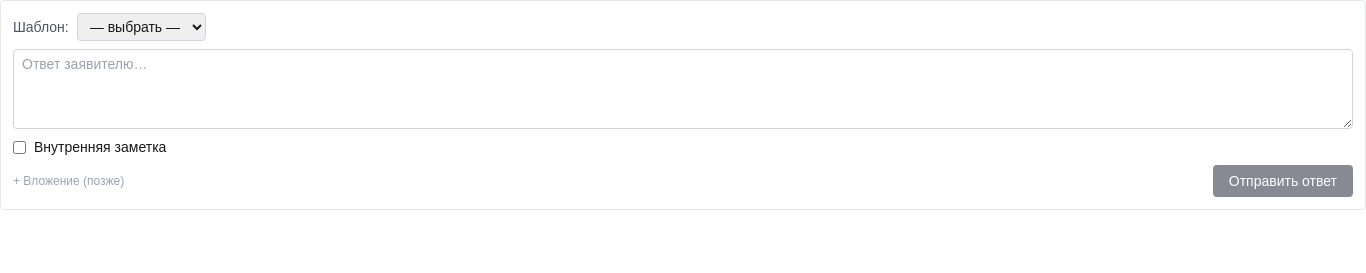
Test: MessageComposer — шаблоны (#131) › ошибка рендера шаблона → inline-алерт
Select "Возврат" in the dropdown named "Вставить шаблон ответа" at (141, 27), box [77,13,206,41]
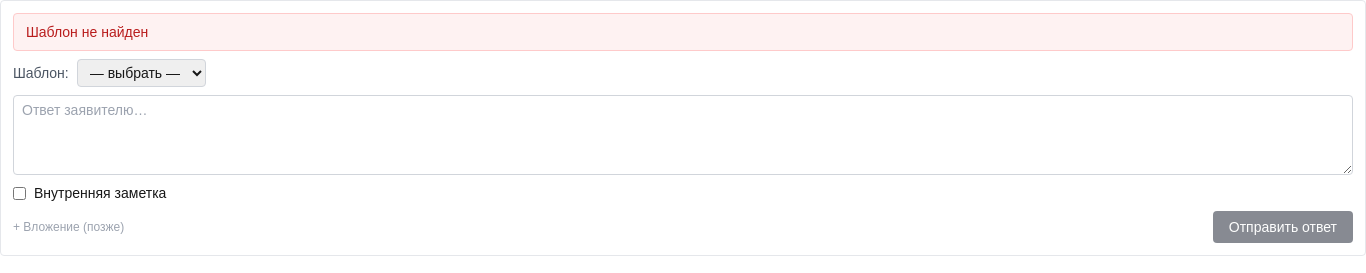
Now the message reads "Шаблон не найден", box [26,24,148,40]
